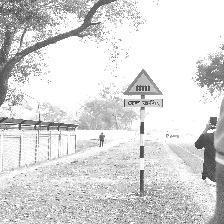Rail-crossing: (123, 70, 163, 107)
